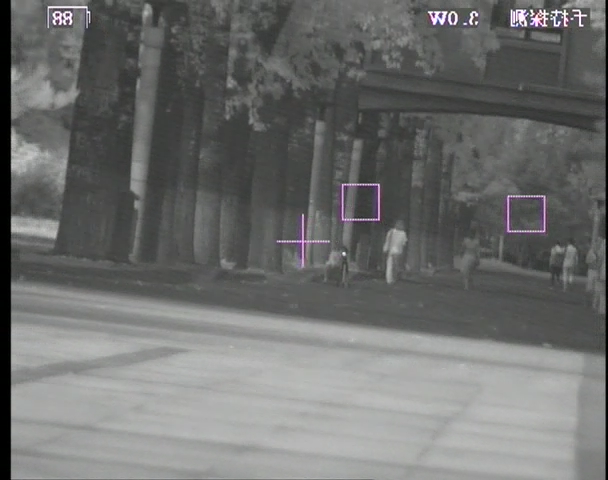my: (340, 250, 347, 258)
